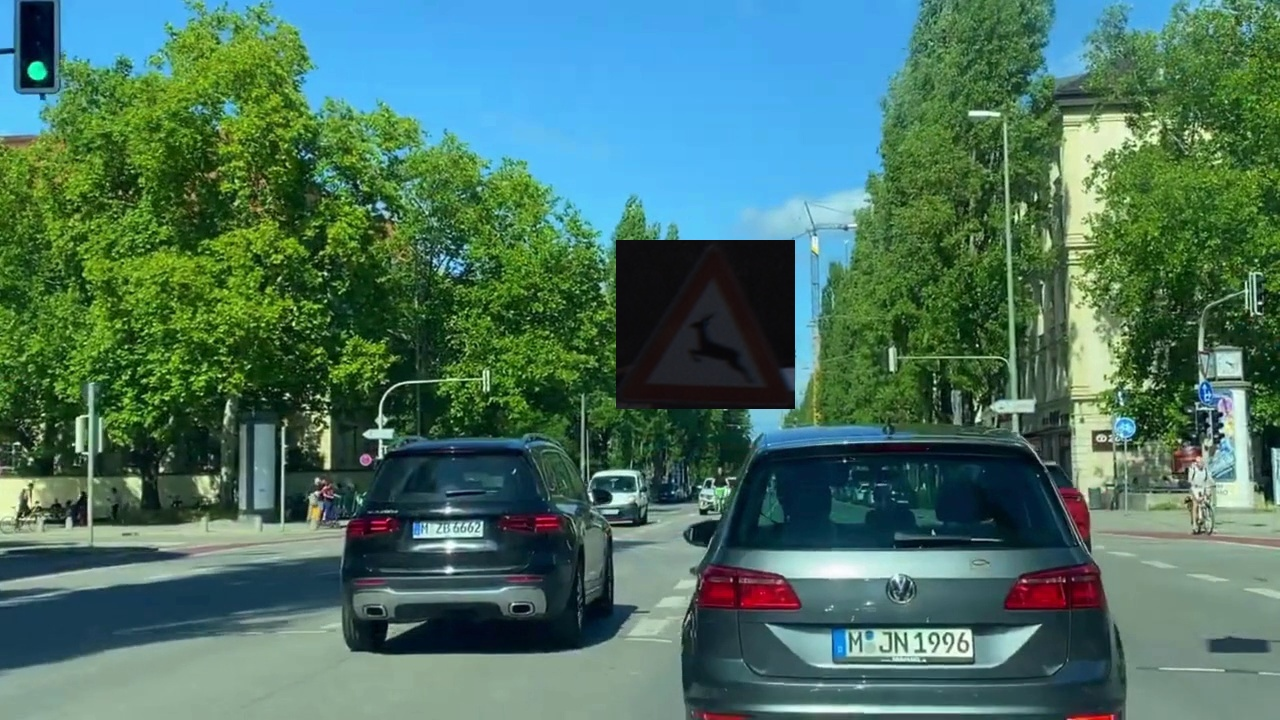Wild animals: (616, 240, 795, 409)
